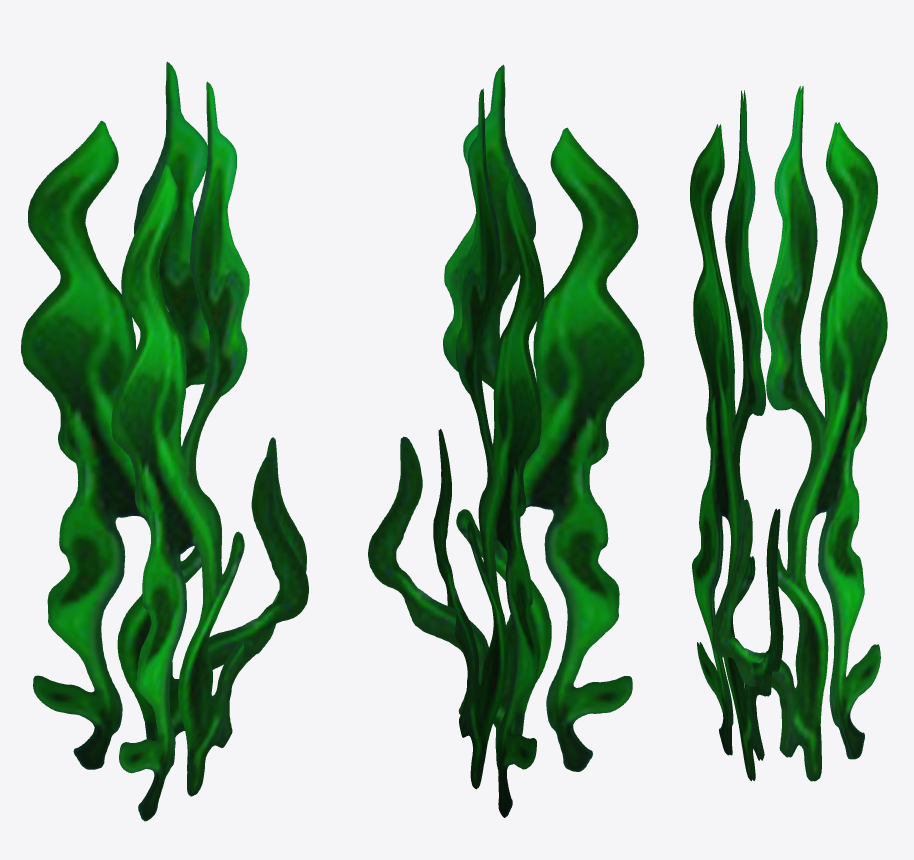
The model's file is Sea_haicao01.FBX.
The picture shows the model from 3 angles, left to right: view 1: azimuth 30°, elevation 25°; view 2: azimuth 150°, elevation 25°; view 3: azimuth 270°, elevation 25°; orthographic projection. The views are drawn at different scales.
Parts seen in each view (by area): view 1: haicao01; view 2: haicao01; view 3: haicao01.
Part boxes in pixels (left/top/right/bottom): haicao01: left=21, top=61, right=308, bottom=821; haicao01: left=368, top=64, right=644, bottom=817; haicao01: left=690, top=86, right=887, bottom=781.
Bounding box in the file's own units: 34.88 × 95.26 × 26.47.
